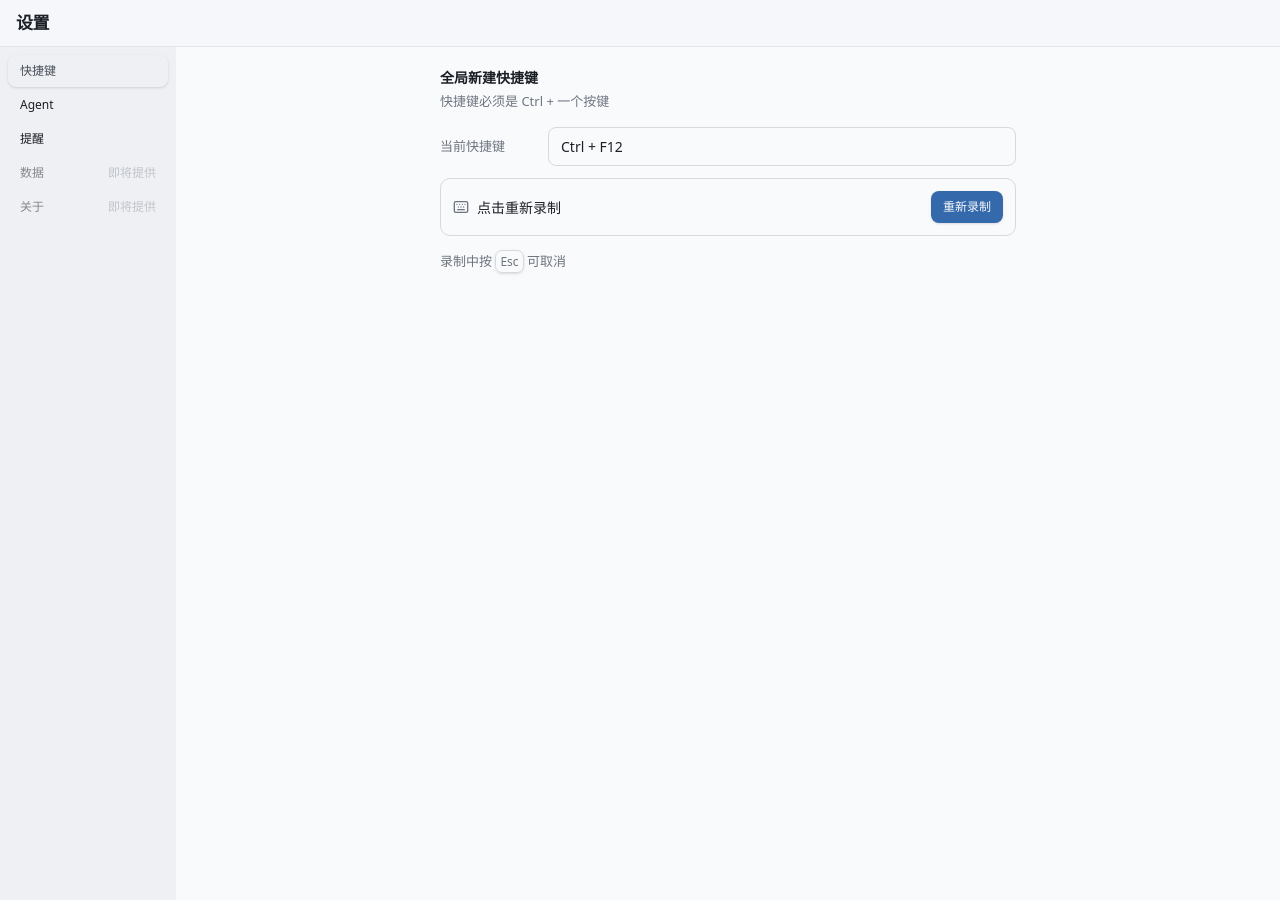
Scenario: 设置页提醒冷却 › 改为 5 分钟并保存成功
Click the button "提醒": click(88, 138) left=8, top=122, right=168, bottom=154
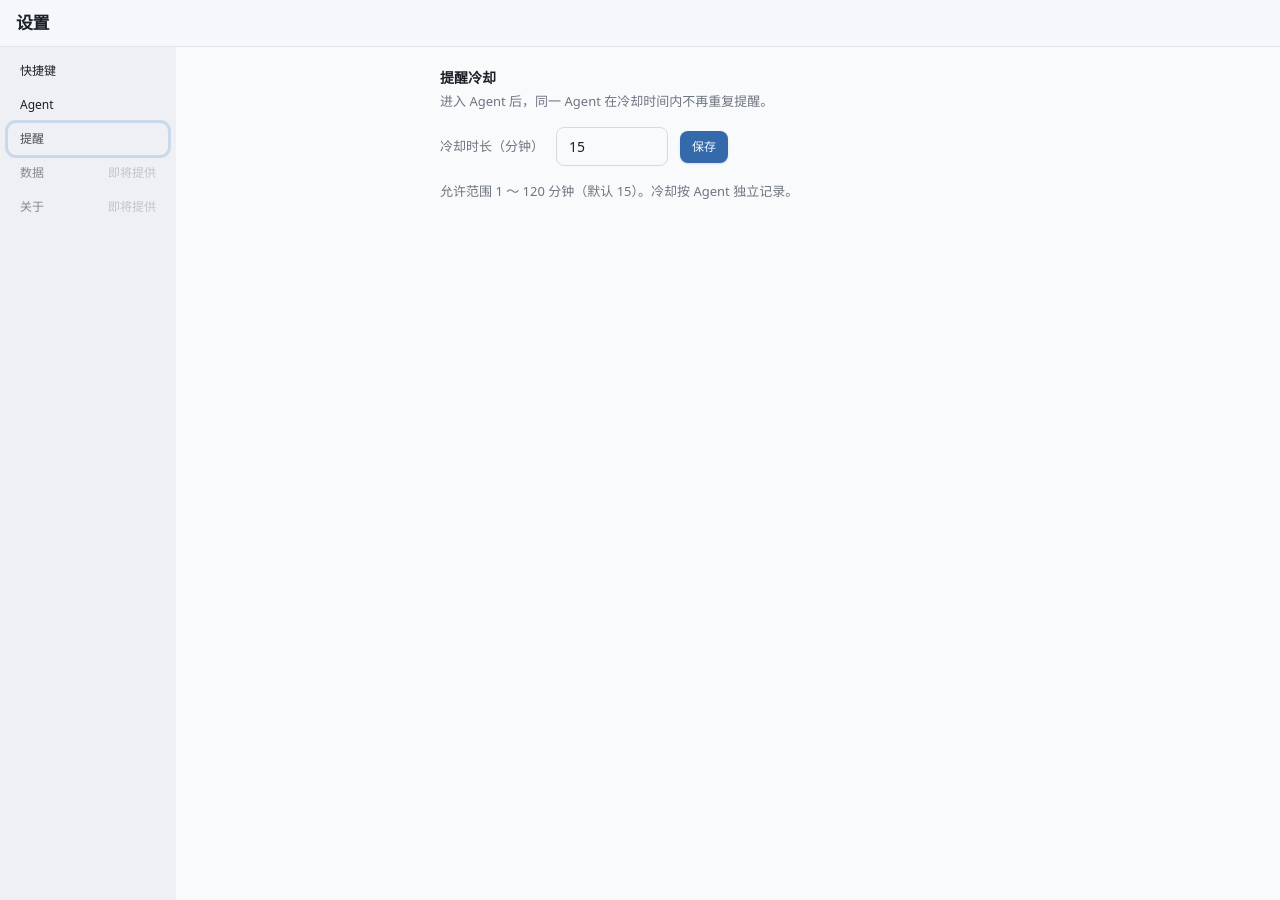
Replace the text in the number field with test id "reminder-cooldown-input" with "5": (612, 146) left=556, top=127, right=668, bottom=166
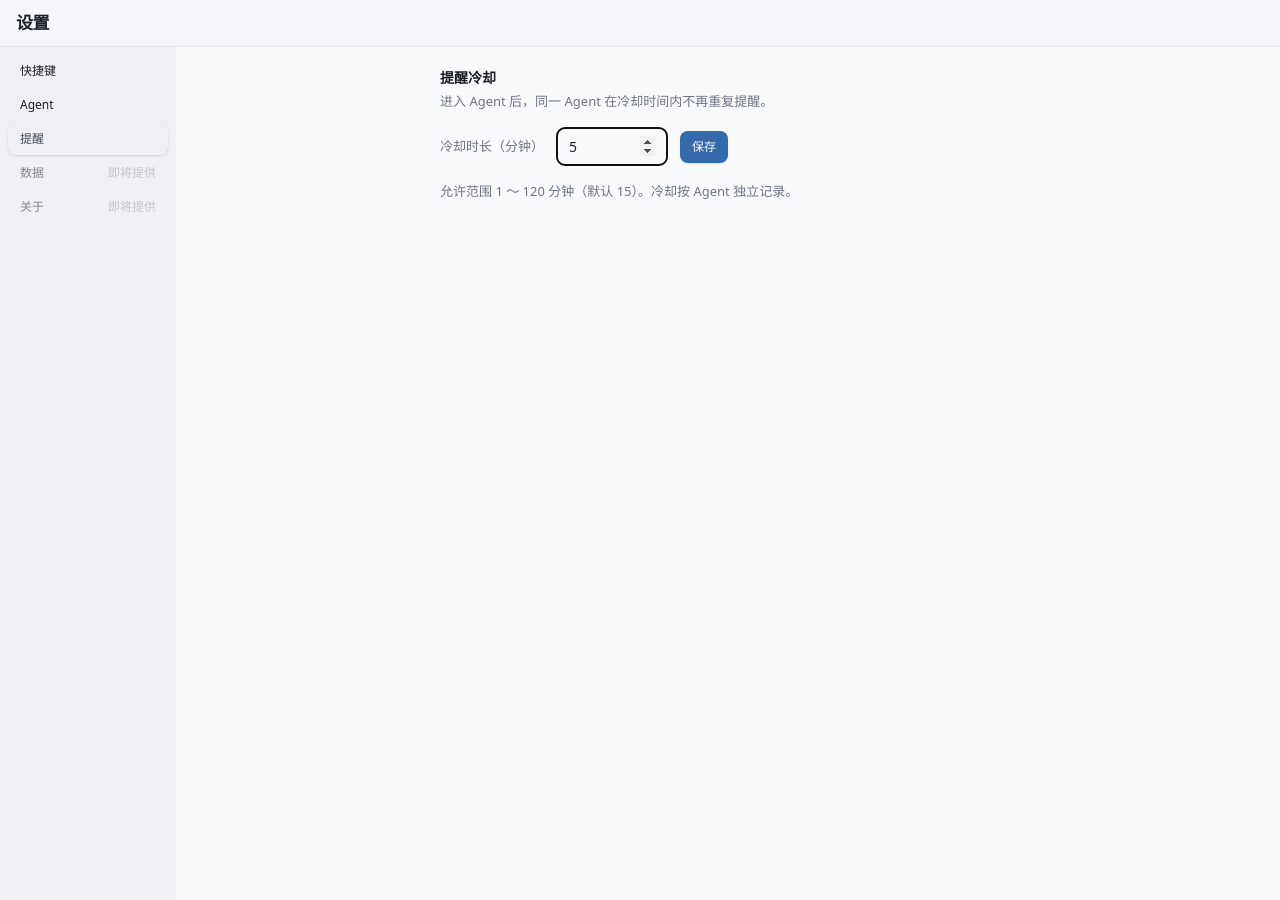
Click the button "保存": click(704, 146) left=680, top=130, right=728, bottom=162
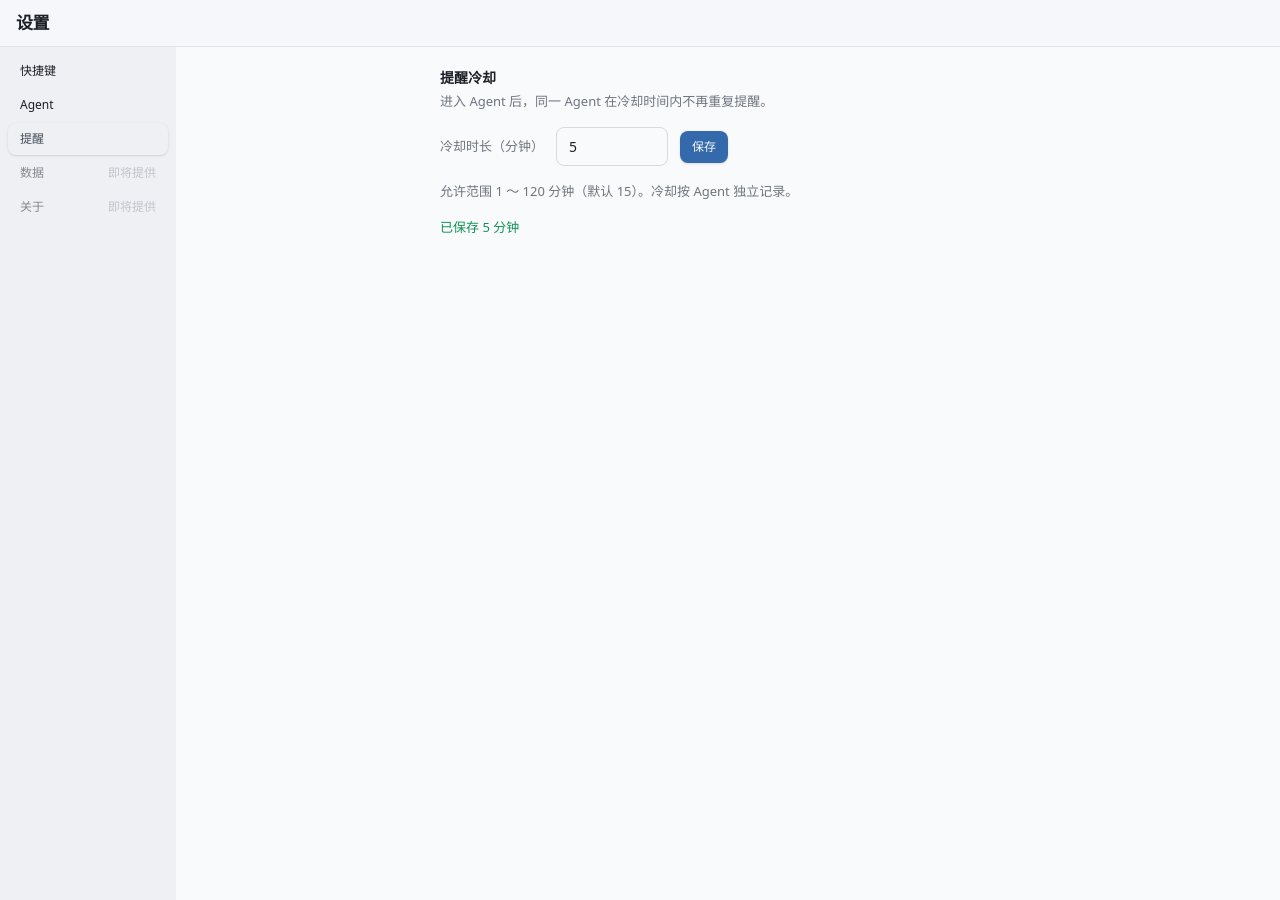
Check: the text "已保存 5 分钟" is shown, box left=440, top=218, right=519, bottom=236
